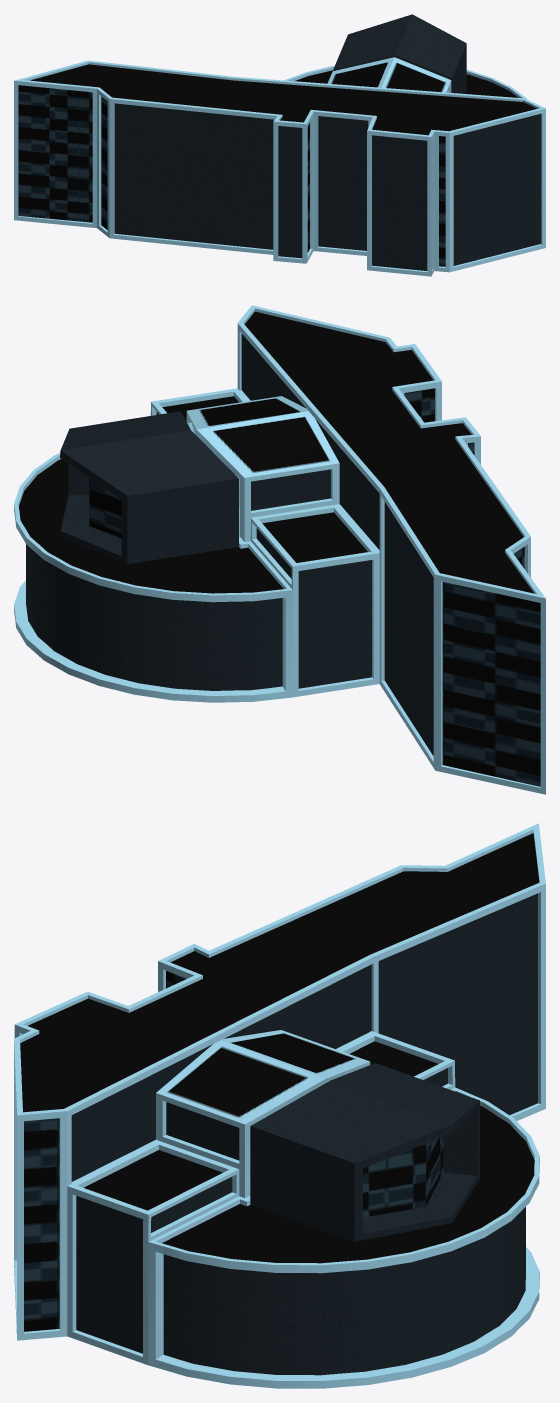
File: block16_b1_MESH.fbx
3 renders of one model, top to bottom at view 1: azimuth 30°, elevation 25°; view 2: azimuth 150°, elevation 25°; view 3: azimuth 270°, elevation 25°, orthographic. The views are drawn at different scales.
Visible parts, largest first — view 1: block16_b1_MESH; view 2: block16_b1_MESH; view 3: block16_b1_MESH.
Part boxes in pixels (box(x1,y1,x2,y2)): block16_b1_MESH: box(14, 14, 545, 276); block16_b1_MESH: box(14, 305, 545, 794); block16_b1_MESH: box(14, 823, 545, 1388).
Bounding box in the file's own units: 8436 × 5576 × 2605.
